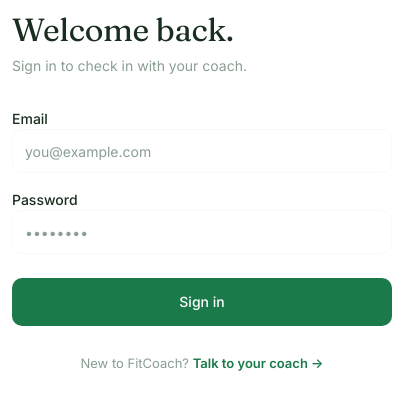
it: <LoginForm /> › on 401, surfaces backend copy inline on the password field; no toast
The image size is (412, 416).
Type "sam@example.com" into the field labelled "Email" at (202, 151), box [12,129,392,173]
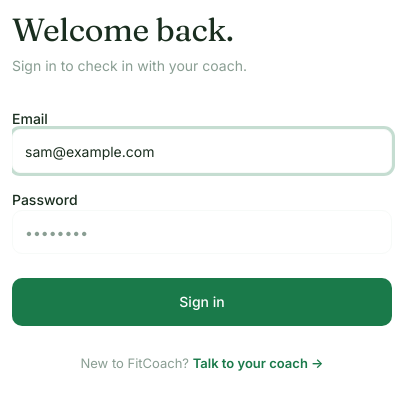
Type "wrong-pw" into the password field labelled "Password" at (202, 232), box [12,210,392,254]
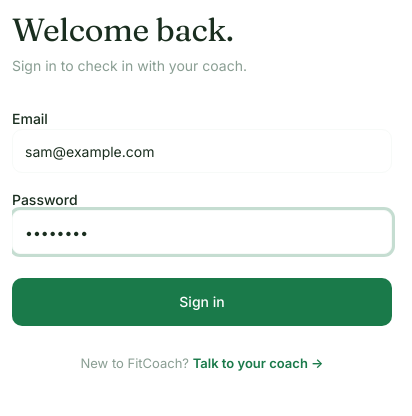
Click the button "Sign in" at (202, 302), box [12,278,392,326]
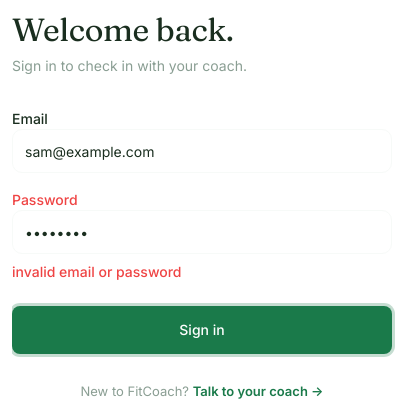
Now the text "invalid email or password" is shown, box [12,263,182,280]
